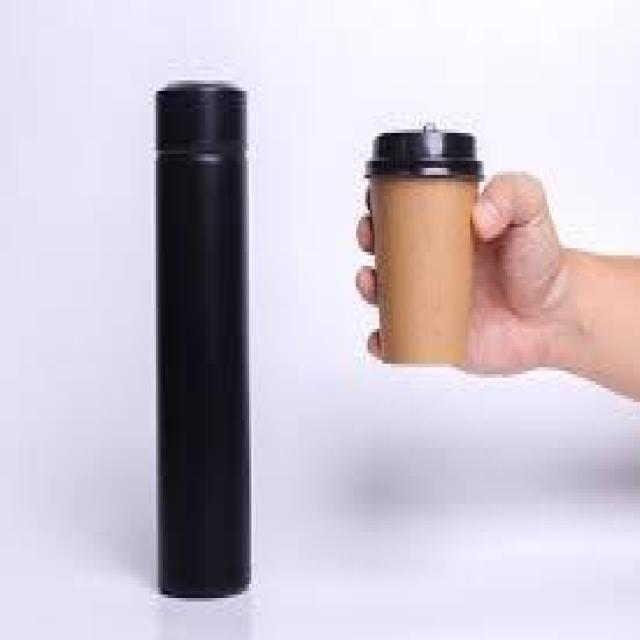bottle: (155, 72, 252, 603)
